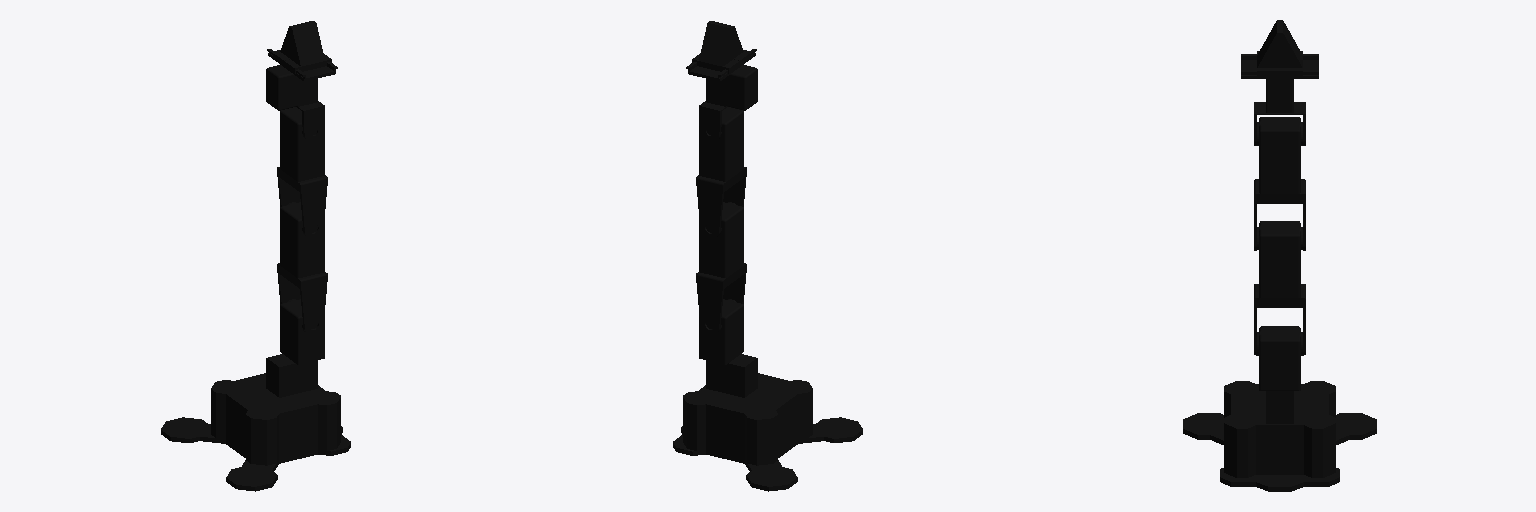
URDF robot description (px_robot):
<?xml version="1.0"?>
<robot name="px_robot">

  <link name="world"></link>

  <link name="base_link">
    <visual name="">
      <origin xyz="0.0 0.0 0.0" rpy="0.0 0.0 0.0"/>
      <geometry>
        <mesh filename="package://px_test/meshes/Base.STL" scale="1 1 1"/>
      </geometry>
      <material name="dark gray">
        <color rgba="0.1 0.1 0.1 1.0"/>
      </material>
    </visual>
    <collision>
      <origin xyz="0.0 0.0 0.0" rpy="0.0 0.0 0.0"/>
      <geometry>
        <mesh filename="package://px_test/meshes/Base.STL" scale="1 1 1"/>
      </geometry>
      <material name="red">
        <color rgba="1 0 0 1.0"/>
      </material>
    </collision>
    <!-- <inertial>
      <origin xyz="0.0 0.0 0.0" rpy="0.0 0.0 0.0"/>
      <mass value="0.0"/>
      <inertia ixx="0.0" ixy="0.0" ixz="0.0" iyy="0.0" iyz="0.0" izz="0.0"/>
    </inertial> -->
  </link>

  <joint name="world_fixed" type="fixed">
    <origin xyz="0.0 0.0 0.0" rpy="0.0 0.0 0.0"/>
    <parent link="world"/>
    <child link="base_link"/>
  </joint>

  <link name="link1">
    <visual name="">
      <origin xyz="0.0 0.0 0.0" rpy="0.0 0.0 0.0"/>
      <geometry>
        <mesh filename="package://px_test/meshes/Shoulder.STL" scale="1 1 1"/>
      </geometry>
      <material name="dark gray">
        <color rgba="0.1 0.1 0.1 1.0"/>
      </material>
    </visual>
    <collision>
      <origin xyz="0.0 0.0 0.0" rpy="0.0 0.0 0.0"/>
      <geometry>
        <mesh filename="package://px_test/meshes/Shoulder.STL" scale="1 1 1"/>
      </geometry>
    </collision>
    <!-- <inertial>
      <origin xyz="0.0 0.0 0.0" rpy="0.0 0.0 0.0"/>
      <mass value="0.0"/>
      <inertia ixx="0.0" ixy="0.0" ixz="0.0" iyy="0.0" iyz="0.0" izz="0.0"/>
    </inertial> -->
  </link>

  <joint name="joint_1" type="revolute">
    <origin xyz="0.0 0.0 0.09" rpy="0.0 0.0 0.0"/>
    <parent link="base_link"/>
    <child link="link1"/>
    <axis xyz="0 0 1"/>
    <limit lower="-2.32" upper="2.32" effort="10.0" velocity="1.57"/>
  </joint>

  <link name="link2">
    <visual name="">
      <origin xyz="0.0 0.0 0.0" rpy="0.0 0.0 0.0"/>
      <geometry>
        <mesh filename="package://px_test/meshes/Bicep.STL" scale="1 1 1"/>
      </geometry>
      <material name="dark gray">
        <color rgba="0.1 0.1 0.1 1.0"/>
      </material>
    </visual>
    <collision>
      <origin xyz="0.0 0.0 0.0" rpy="0.0 0.0 0.0"/>
      <geometry>
        <mesh filename="package://px_test/meshes/Bicep.STL" scale="1 1 1"/>
      </geometry>
    </collision>
    <!-- <inertial>
      <origin xyz="0.0 0.0 0.0" rpy="0.0 0.0 0.0"/>
      <mass value="0.0"/>
      <inertia ixx="0.0" ixy="0.0" ixz="0.0" iyy="0.0" iyz="0.0" izz="0.0"/>
    </inertial> -->
  </link>

  <joint name="joint_2" type="revolute">
    <origin xyz="0.0 0.0 0.042" rpy="1.5707 0.0 0.0"/>
    <parent link="link1"/>
    <child link="link2"/>
    <axis xyz="0 0 1"/>
    <limit lower="-2.32" upper="2.32" effort="10.0" velocity="1.57"/>
  </joint>

  <link name="link3">
    <visual name="">
      <origin xyz="0.0 0.0 0.0" rpy="0.0 0.0 0.0"/>
      <geometry>
        <mesh filename="package://px_test/meshes/Bicep.STL" scale="1 1 1"/>
      </geometry>
      <material name="dark gray">
        <color rgba="0.1 0.1 0.1 1.0"/>
      </material>
    </visual>
    <collision>
      <origin xyz="0.0 0.0 0.0" rpy="0.0 0.0 0.0"/>
      <geometry>
        <mesh filename="package://px_test/meshes/Bicep.STL" scale="1 1 1"/>
      </geometry>
    </collision>
    <!-- <inertial>
      <origin xyz="0.0 0.0 0.0" rpy="0.0 0.0 0.0"/>
      <mass value="0.0"/>
      <inertia ixx="0.0" ixy="0.0" ixz="0.0" iyy="0.0" iyz="0.0" izz="0.0"/>
    </inertial> -->
  </link>

  <joint name="joint_3" type="revolute">
    <origin xyz="0.0 0.1065 0" rpy="0.0 0.0 0.0"/>
    <parent link="link2"/>
    <child link="link3"/>
    <axis xyz="0 0 1"/>
    <limit lower="-2.32" upper="2.32" effort="10.0" velocity="1.57"/>
  </joint>

  <link name="link4">
    <visual name="">
      <origin xyz="0.0 0.0 0.0" rpy="0.0 0.0 0.0"/>
      <geometry>
        <mesh filename="package://px_test/meshes/Wrist.STL" scale="1 1 1"/>
      </geometry>
      <material name="dark gray">
        <color rgba="0.1 0.1 0.1 1.0"/>
      </material>
    </visual>
    <collision>
      <origin xyz="0.0 0.0 0.0" rpy="0.0 0.0 0.0"/>
      <geometry>
        <mesh filename="package://px_test/meshes/Wrist.STL" scale="1 1 1"/>
      </geometry>
    </collision>
    <!-- <inertial>
      <origin xyz="0.0 0.0 0.0" rpy="0.0 0.0 0.0"/>
      <mass value="0.0"/>
      <inertia ixx="0.0" ixy="0.0" ixz="0.0" iyy="0.0" iyz="0.0" izz="0.0"/>
    </inertial> -->
  </link>

  <joint name="joint_4" type="revolute">
    <origin xyz="0.0 0.1065 0" rpy="0.0 0.0 0.0"/>
    <parent link="link3"/>
    <child link="link4"/>
    <axis xyz="0 0 1"/>
    <limit lower="-2.32" upper="2.32" effort="10.0" velocity="1.57"/>
  </joint>

  <link name="tcp_link"></link>

  <joint name="tcp" type="fixed">
    <origin xyz="0.0 0.092 0" rpy="-1.5707 0.0 0.0"/>
    <parent link="link4"/>
    <child link="tcp_link"/>
  </joint>

</robot>

--- Facts derived from the render (not from the file) ---
The picture shows the robot from 3 angles, left to right: view 1: azimuth 30°, elevation 25°; view 2: azimuth 150°, elevation 25°; view 3: azimuth 270°, elevation 25°; orthographic projection.
Robot: px_robot — 7 links, 6 joints (4 revolute, 2 fixed); root link world; default pose: all joints at 0.
Links seen in each view (by area): view 1: base_link, link4, link2, link3, link1; view 2: base_link, link4, link2, link3, link1; view 3: base_link, link4, link3, link2, link1.
Boxes of the visible links, box(x1,y1,x2,y2) form: base_link: box(161, 354, 350, 491); link4: box(266, 21, 337, 142); link2: box(277, 202, 327, 335); link3: box(277, 107, 327, 238); link1: box(280, 299, 324, 364); base_link: box(673, 354, 862, 491); link4: box(686, 21, 757, 142); link2: box(696, 202, 746, 335); link3: box(696, 107, 746, 238); link1: box(699, 299, 743, 364); base_link: box(1183, 381, 1376, 491); link4: box(1241, 20, 1318, 145); link3: box(1254, 117, 1305, 250); link2: box(1254, 221, 1305, 354); link1: box(1256, 326, 1303, 390).
Bounding box of the posed robot: 0.1606 × 0.1792 × 0.4544 m (x, y, z).
5 mesh visuals loaded from 4 distinct referenced files (4 binary STL).